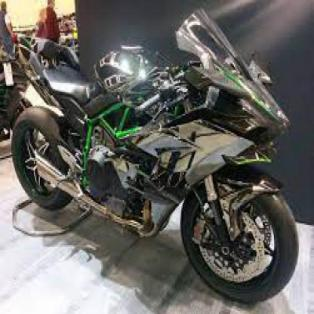Motocicleta: (8, 11, 298, 303)
